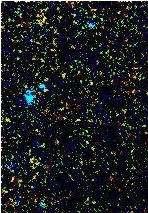star: (53, 58, 83, 88)
